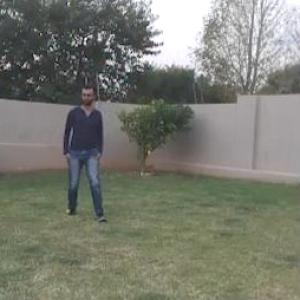follow: (60, 76, 111, 222)
